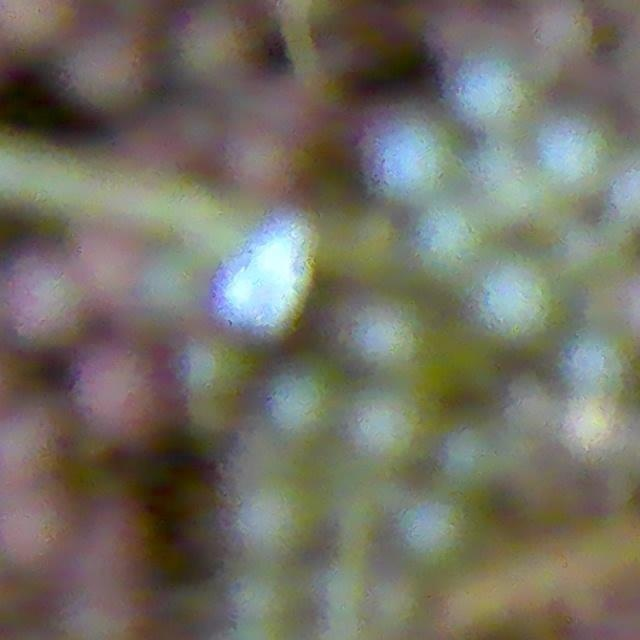SeaGrape: (73, 358, 159, 453), (234, 475, 322, 563), (372, 114, 458, 203), (395, 491, 480, 576), (347, 385, 431, 470), (467, 262, 552, 345), (262, 362, 342, 444), (410, 200, 486, 283), (348, 292, 424, 375), (0, 486, 66, 576), (535, 113, 606, 196), (73, 218, 143, 302), (438, 422, 512, 495), (13, 260, 76, 341), (558, 334, 629, 405), (462, 65, 536, 132)
